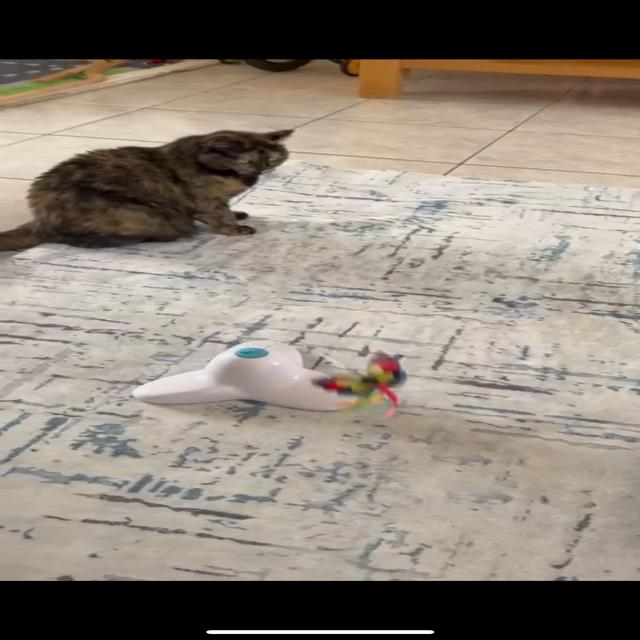authorized: (1, 127, 294, 251)
